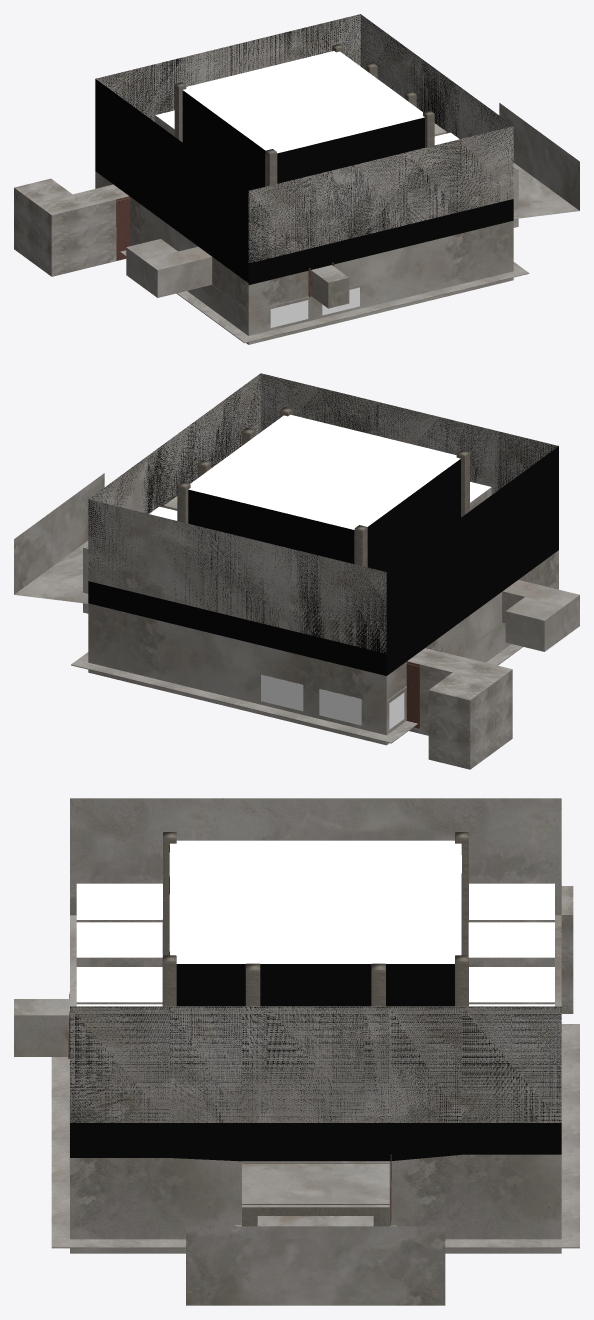
Rendered from sott4t.glb.
3 views of the same model, one above another, from view 1: azimuth 30°, elevation 25°; view 2: azimuth 150°, elevation 25°; view 3: azimuth 270°, elevation 25° (orthographic). The views are drawn at different scales.
Parts seen in each view (by area): view 1: Cube, Cube.003, Plane.005, Cube.002, Plane.012, Cube.021, Cylinder.002; view 2: Cube, Cube.003, Plane.005, Cube.002, Cube.029, Cube.030, Plane.012; view 3: Cube, Plane.005, Cube.003, Cube.002, Cube.010.
Boxes of the visible parts, bbox=[...] form: Cube: bbox=[14, 14, 518, 344]; Cube.003: bbox=[182, 90, 424, 190]; Plane.005: bbox=[120, 103, 579, 343]; Cube.002: bbox=[174, 44, 434, 186]; Plane.012: bbox=[101, 184, 333, 296]; Cube.021: bbox=[270, 300, 308, 327]; Cylinder.002: bbox=[212, 278, 435, 311]; Cube: bbox=[83, 373, 579, 769]; Cube.003: bbox=[188, 459, 460, 571]; Plane.005: bbox=[14, 473, 522, 743]; Cube.002: bbox=[177, 407, 469, 567]; Cube.029: bbox=[261, 674, 303, 711]; Cube.030: bbox=[319, 689, 361, 725]; Plane.012: bbox=[406, 591, 502, 728]; Cube: bbox=[14, 798, 573, 1253]; Plane.005: bbox=[51, 1024, 579, 1305]; Cube.003: bbox=[169, 845, 461, 1006]; Cube.002: bbox=[162, 832, 468, 1006]; Cube.010: bbox=[242, 1162, 389, 1226].
Size of the model in its own units: 72.5 by 24.92 by 49.67.
Materials: 20 (13 with a texture image).
